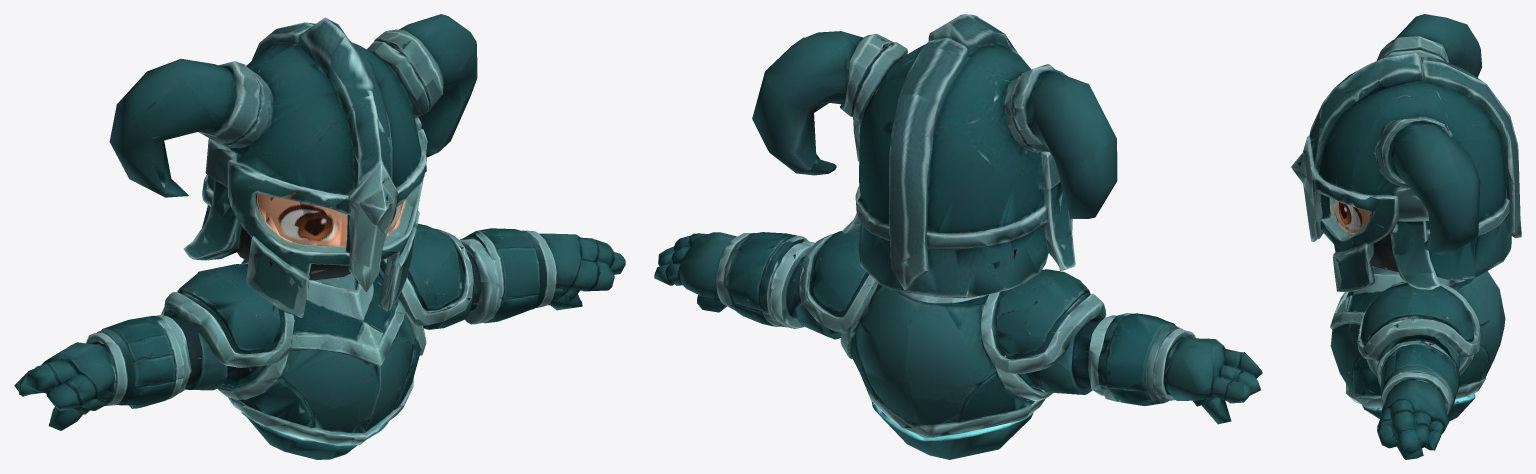
File: helmy.glb
3 views of the same model, side by side, from view 1: azimuth 30°, elevation 25°; view 2: azimuth 150°, elevation 25°; view 3: azimuth 270°, elevation 25° (orthographic). The views are drawn at different scales.
Size of the model in its own units: 1.89 by 1.29 by 0.7196.
1 material, 1 textured.
